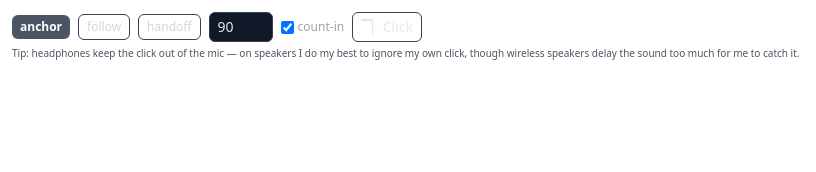
PocketControl (#421 S1) › a failed start shows a calm error, and a working retry clears it (#498)
The image size is (816, 172).
Click the button with test id "pocket-start".
click(387, 27)  # box [352,12,422,42]
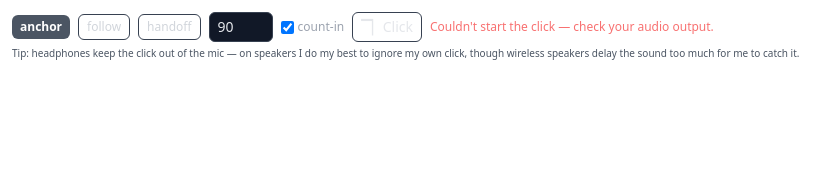
expect the message does not show "500": met, box [430,19,714,35]
expect the message shows "Couldn't start the click": met, box [430,18,714,35]
Click the button with test id "pocket-start".
click(387, 27)  # box [352,12,422,42]
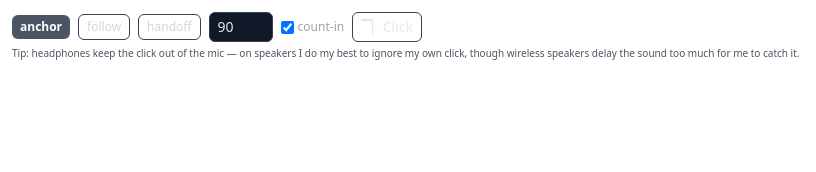
expect the message with test id "pocket-error" is gone: met
